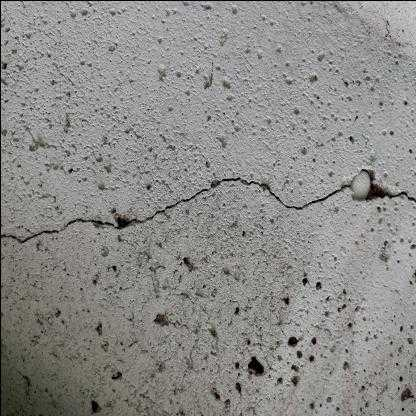crack: (0, 168, 416, 242)
